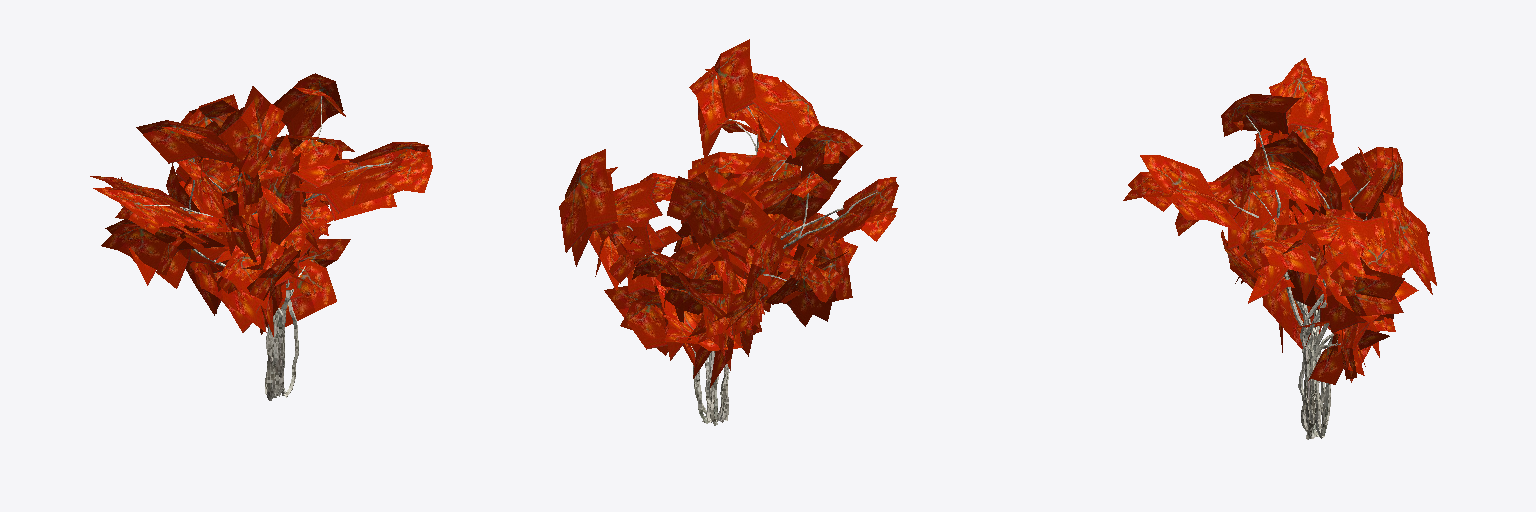
3 views of the same model, side by side, from view 1: azimuth 30°, elevation 25°; view 2: azimuth 150°, elevation 25°; view 3: azimuth 270°, elevation 25° (orthographic).
Parts seen in each view (by area): view 1: Bush_1_0; view 2: Bush_1_0; view 3: Bush_1_0.
Boxes of the visible parts, x1=… form: Bush_1_0: x1=90, y1=73, x2=432, y2=400; Bush_1_0: x1=559, y1=39, x2=898, y2=425; Bush_1_0: x1=1123, y1=58, x2=1436, y2=439.
Bounding box in the file's own units: 0.6837 × 0.7277 × 0.6371.
1 materials, 1 textured.